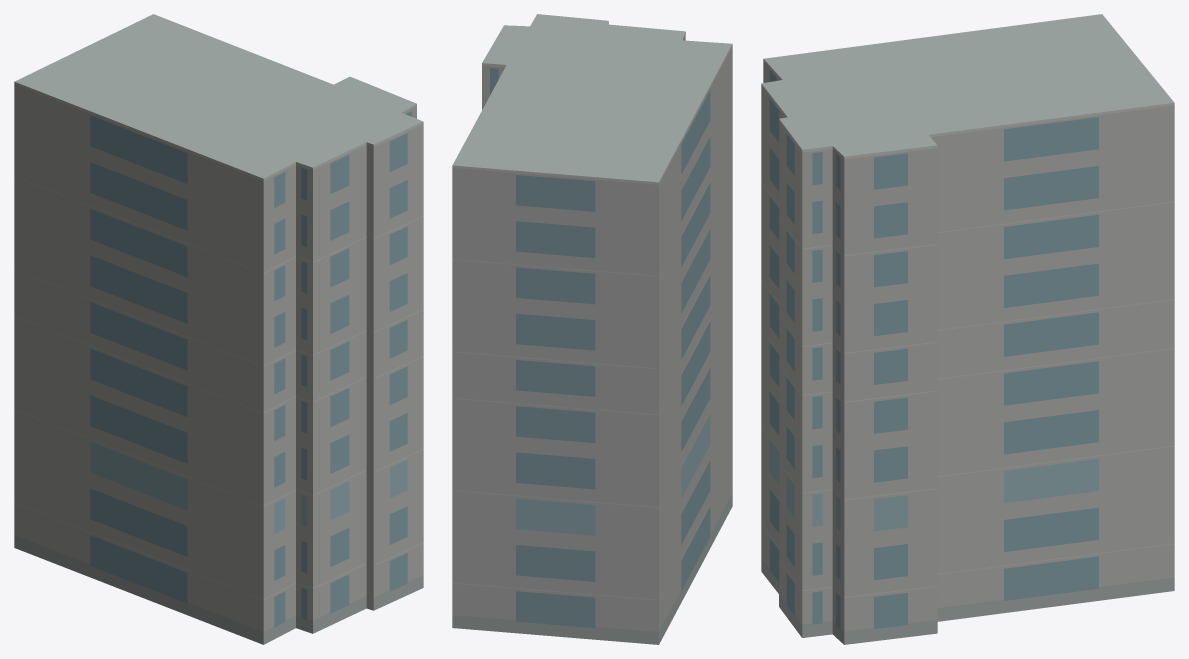
File: survey-upis-33038901.glb
3 views of the same model, side by side, from view 1: azimuth 30°, elevation 25°; view 2: azimuth 150°, elevation 25°; view 3: azimuth 270°, elevation 25° (orthographic). The views are drawn at different scales.
Visible parts, largest first — view 1: survey-upis-33038901.tmp; view 2: survey-upis-33038901.tmp; view 3: survey-upis-33038901.tmp.
Part boxes in pixels (bbox=[...]): survey-upis-33038901.tmp: bbox=[14, 14, 423, 644]; survey-upis-33038901.tmp: bbox=[452, 14, 732, 644]; survey-upis-33038901.tmp: bbox=[761, 14, 1174, 644].
Bounding box in the file's own units: 26.98 × 43 × 33.
